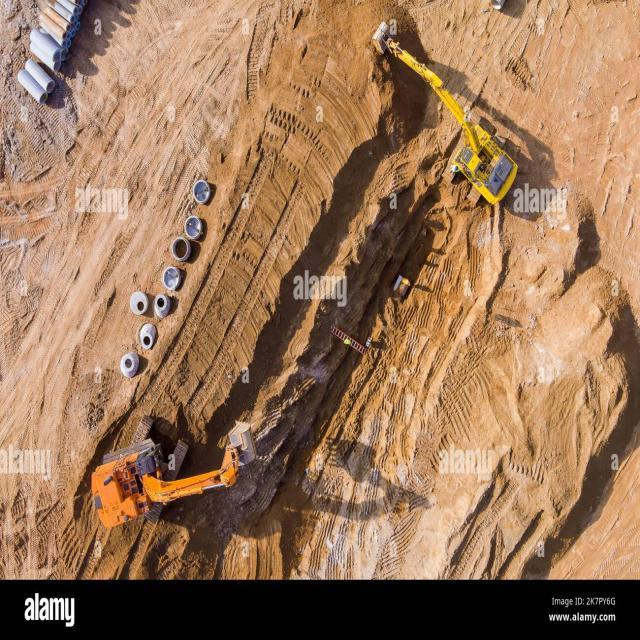excavator: (374, 22, 518, 206)
